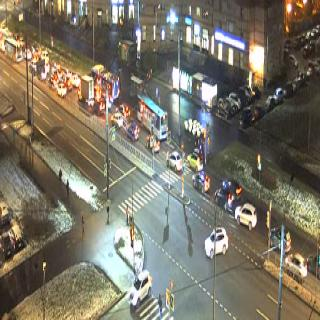large-vehicle: (136, 92, 169, 136), (93, 62, 118, 101), (4, 35, 24, 63), (79, 79, 92, 103)
small-vehicle: (285, 243, 307, 280), (130, 272, 152, 304), (269, 222, 288, 258), (237, 202, 256, 233), (216, 178, 235, 208), (207, 236, 230, 258), (168, 140, 182, 171), (193, 166, 209, 192), (225, 173, 242, 196), (149, 130, 162, 158), (125, 115, 137, 143), (111, 108, 123, 134), (65, 66, 77, 90), (188, 148, 201, 170), (32, 59, 47, 78), (56, 76, 68, 98), (49, 71, 60, 91), (40, 46, 50, 68)
